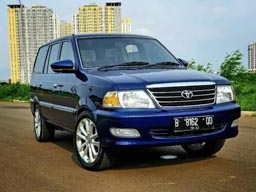plat: (173, 117, 215, 126)
